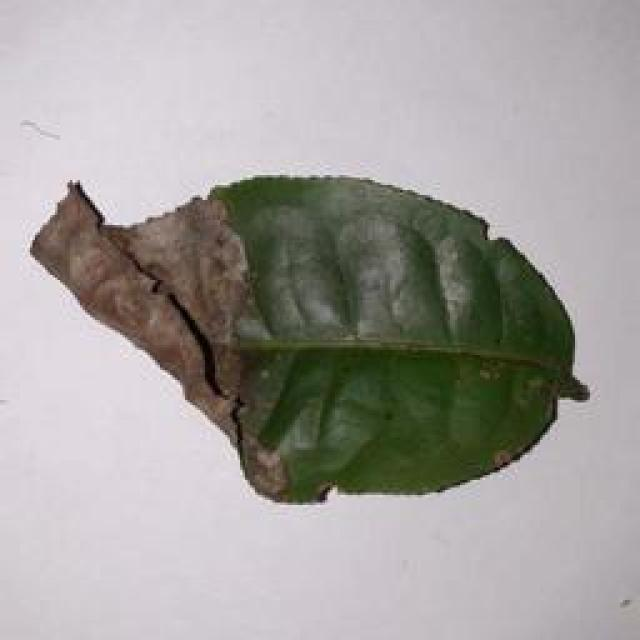Brown Blight: (56, 164, 614, 522)
